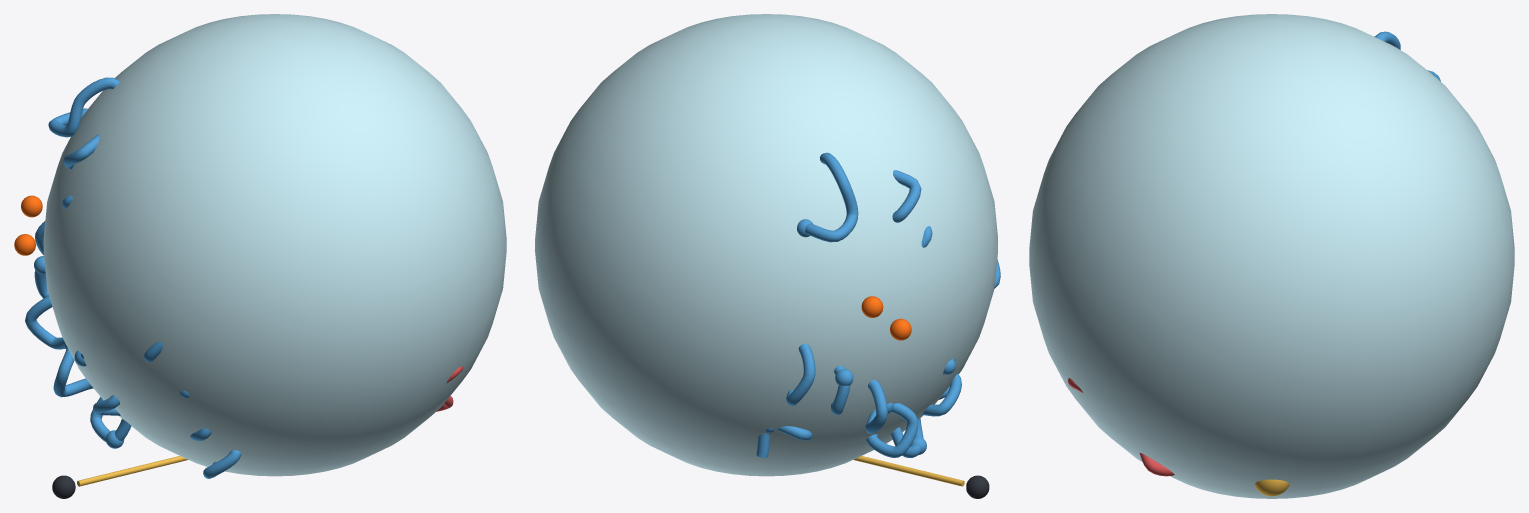
The model's file is hemoglobin-protein.glb.
The picture shows the model from 3 angles, left to right: view 1: azimuth 30°, elevation 25°; view 2: azimuth 150°, elevation 25°; view 3: azimuth 270°, elevation 25°; orthographic projection. The views are drawn at different scales.
Visible parts, largest first — view 1: structure-bounding-capsule, real-pdb-chain-B-backbone, sequence-to-fold-arrow; view 2: structure-bounding-capsule, real-pdb-chain-B-backbone, sequence-to-fold-arrow; view 3: structure-bounding-capsule.
Boxes of the visible parts, left/top/right/bottom form: structure-bounding-capsule: left=43, top=14, right=506, bottom=476; real-pdb-chain-B-backbone: left=25, top=77, right=241, bottom=478; sequence-to-fold-arrow: left=77, top=456, right=188, bottom=486; structure-bounding-capsule: left=535, top=14, right=997, bottom=476; real-pdb-chain-B-backbone: left=756, top=152, right=1000, bottom=457; sequence-to-fold-arrow: left=853, top=456, right=964, bottom=486; structure-bounding-capsule: left=1029, top=14, right=1514, bottom=498.
Size of what is drawn, in the model's own units: 2.9 by 2.76 by 2.75.
